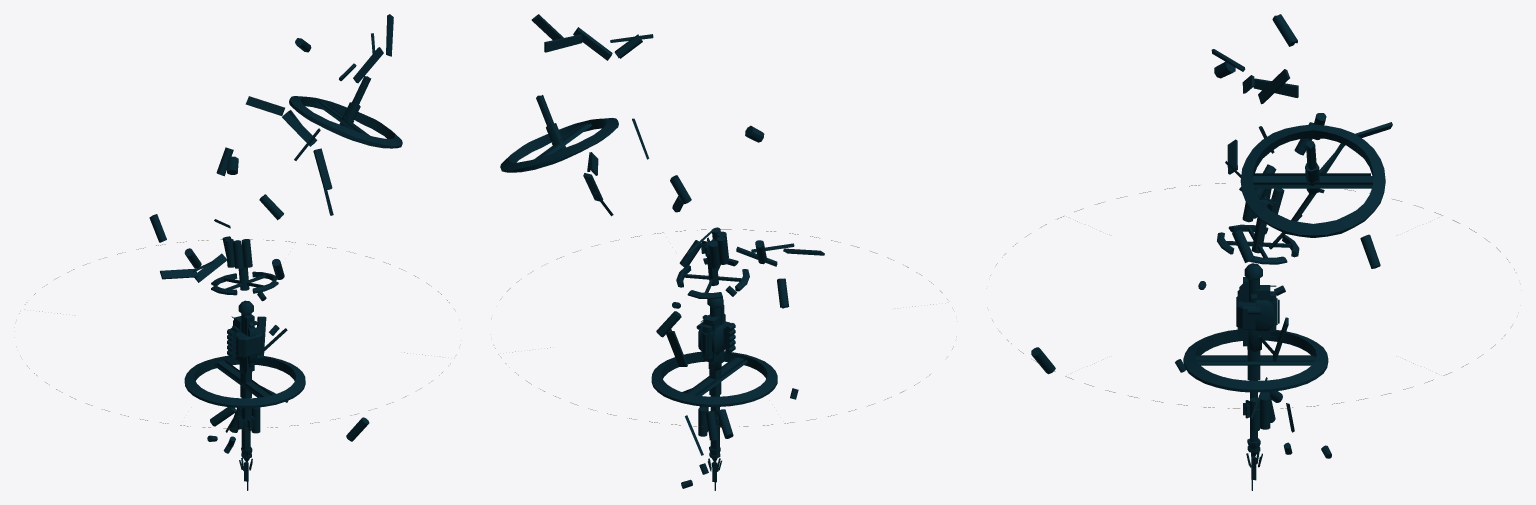
The model's file is StationCharlie.dae.
3 views of the same model, side by side, from view 1: azimuth 30°, elevation 25°; view 2: azimuth 150°, elevation 25°; view 3: azimuth 270°, elevation 25° (orthographic). The views are drawn at different scales.
Parts seen in each view (by area): view 1: station_charlie1; view 2: station_charlie1; view 3: station_charlie1.
Part boxes in pixels (x1,y1,x2,y2): station_charlie1: (149,14,402,490); station_charlie1: (500,14,824,490); station_charlie1: (1031,14,1392,490).
Bounding box in the file's own units: 3 × 3.16 × 3.
